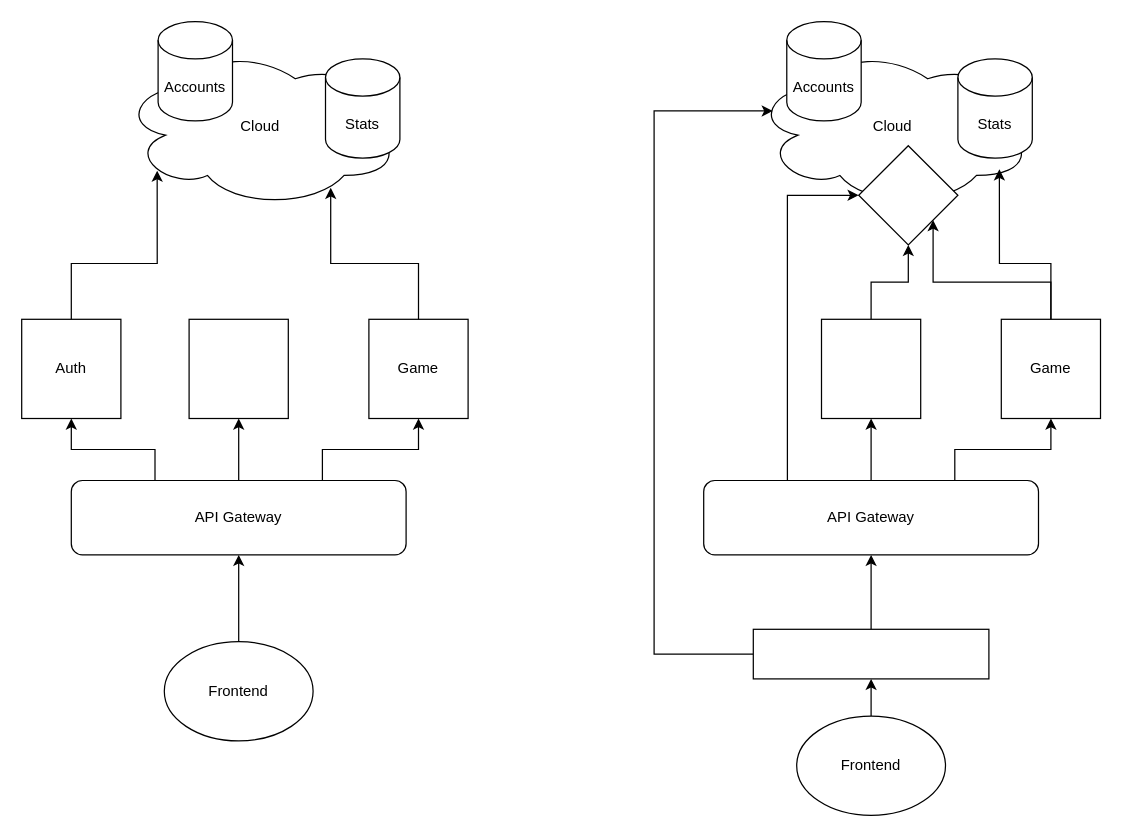
Some shapes in this 1122 by 837 pixel diagram are drawn without their labels. The shapes that lost their labels are listed below. From the top down, each one's centre as x and y in pixels, then its label:
[907,194]: Redis
[238,368]: Matchmaker
[870,368]: Game Logic
[870,653]: SSR
